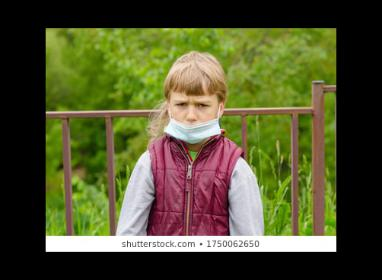mask_weared_incorrect: (169, 97, 216, 142)
